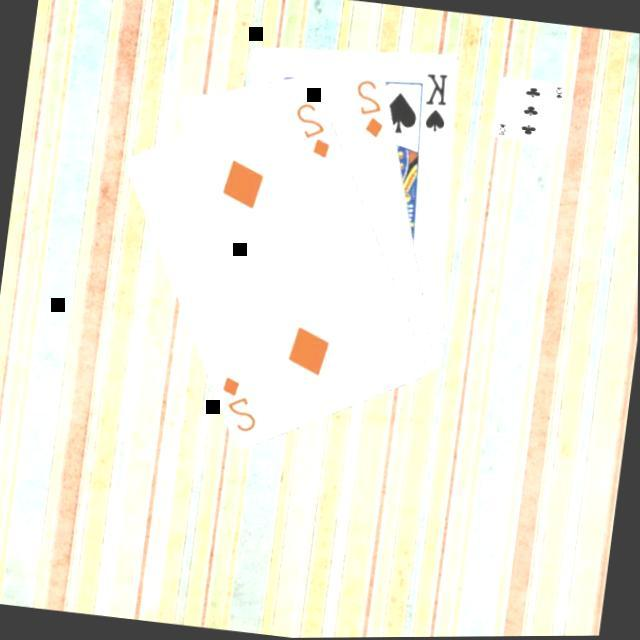2D: (214, 369, 267, 434), (288, 96, 339, 160), (348, 72, 393, 140)
KS: (418, 66, 456, 134)
